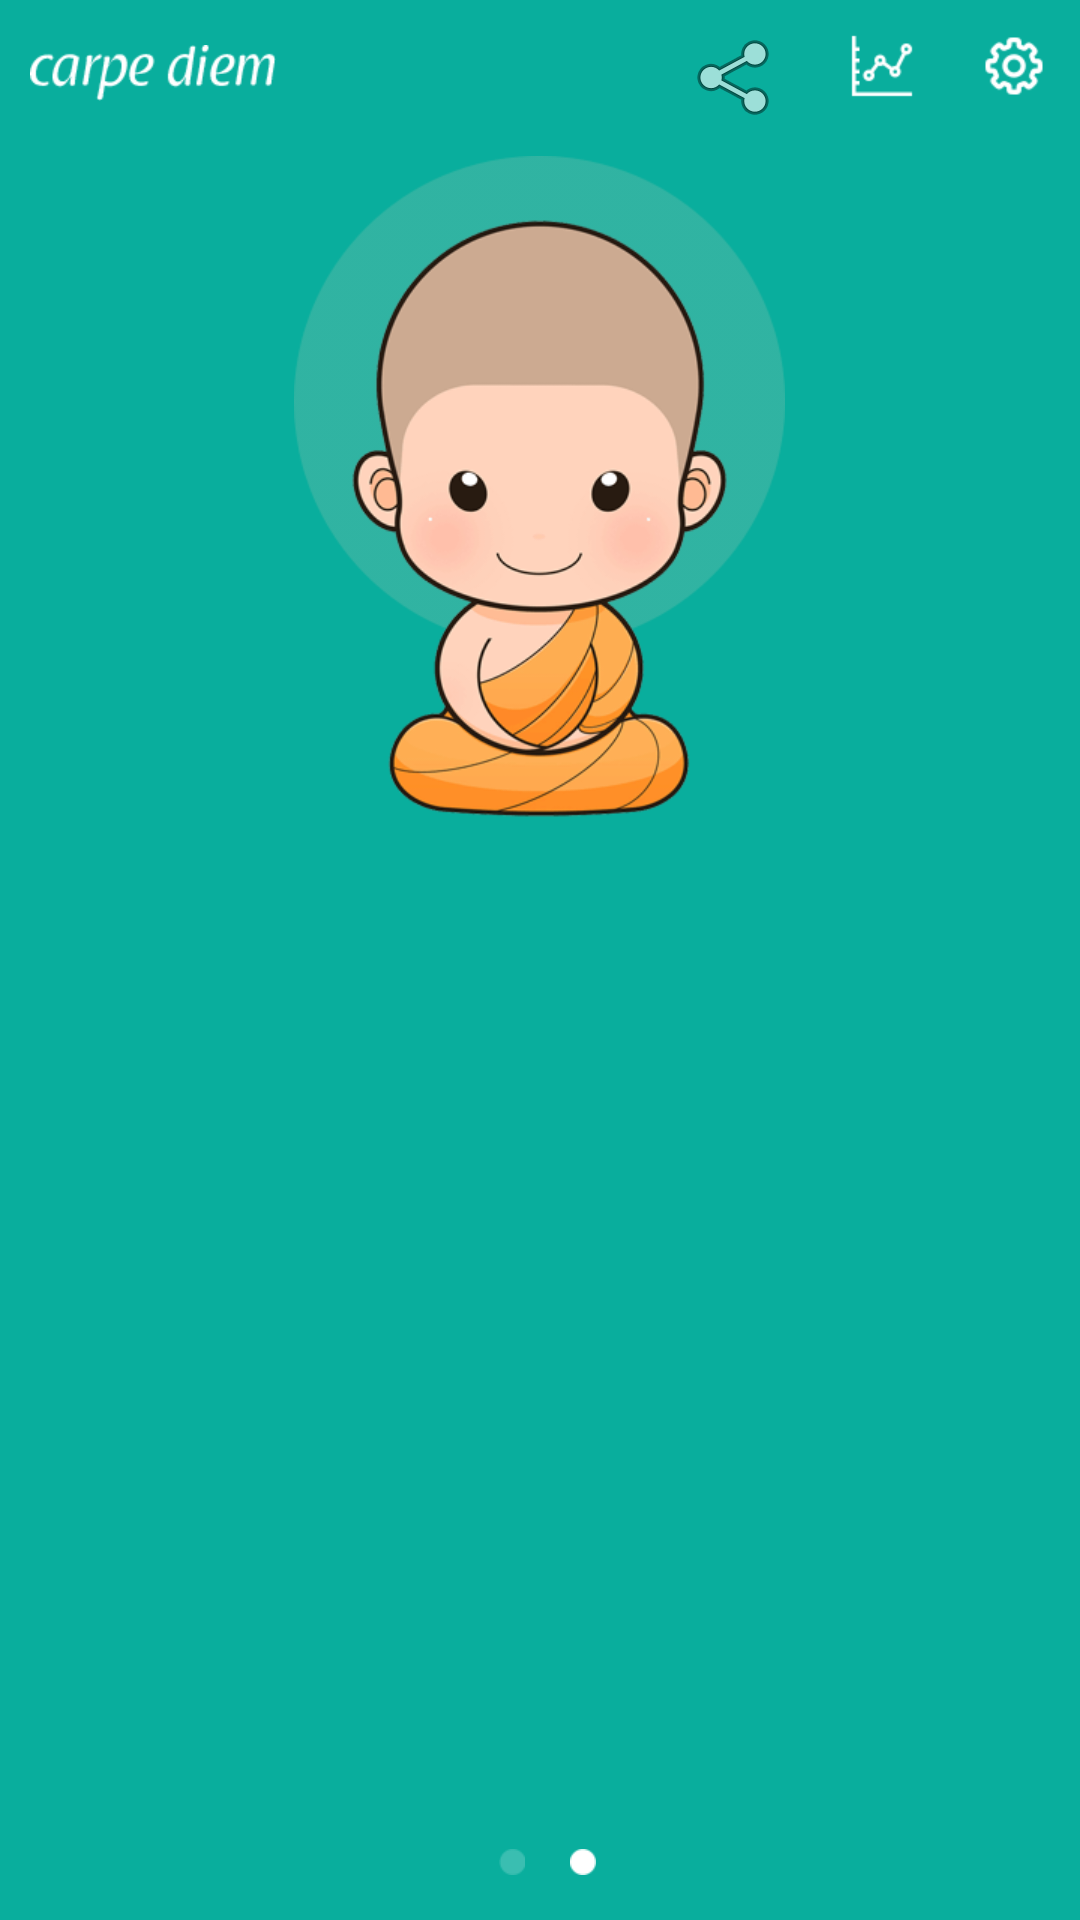

Named icons in this screenshot (1080 x 1920) and their centers, (x,y):
circle: (583,1862)
settings: (1014,66)
share: (733,77)
stats: (882,66)
